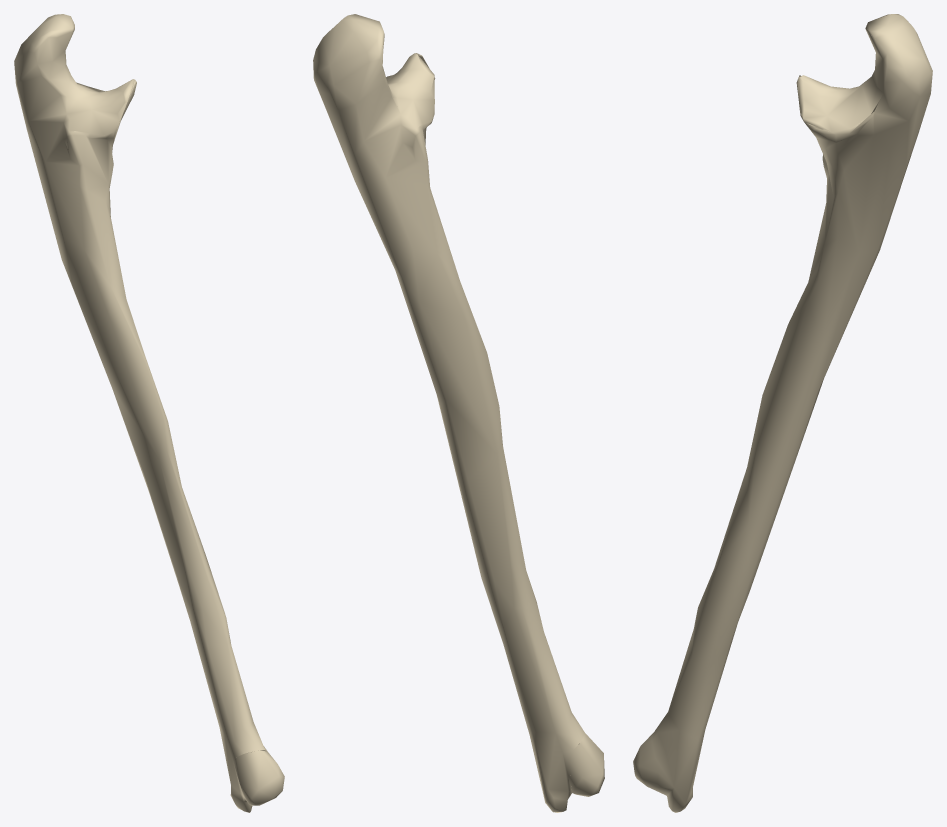
Rendered from esqueleto-ulna-r.glb.
3 renders of one model, left to right at view 1: azimuth 90°, elevation 25°; view 2: azimuth 150°, elevation 25°; view 3: azimuth 270°, elevation 25°, orthographic. The views are drawn at different scales.
Parts seen in each view (by area): view 1: Ulna.r; view 2: Ulna.r; view 3: Ulna.r.
Part boxes in pixels (x1=…): Ulna.r: x1=14, y1=14, x2=284, y2=812; Ulna.r: x1=313, y1=14, x2=604, y2=812; Ulna.r: x1=633, y1=14, x2=932, y2=812.
Size of the model in its own units: 0.0524 by 0.2554 by 0.0832.
